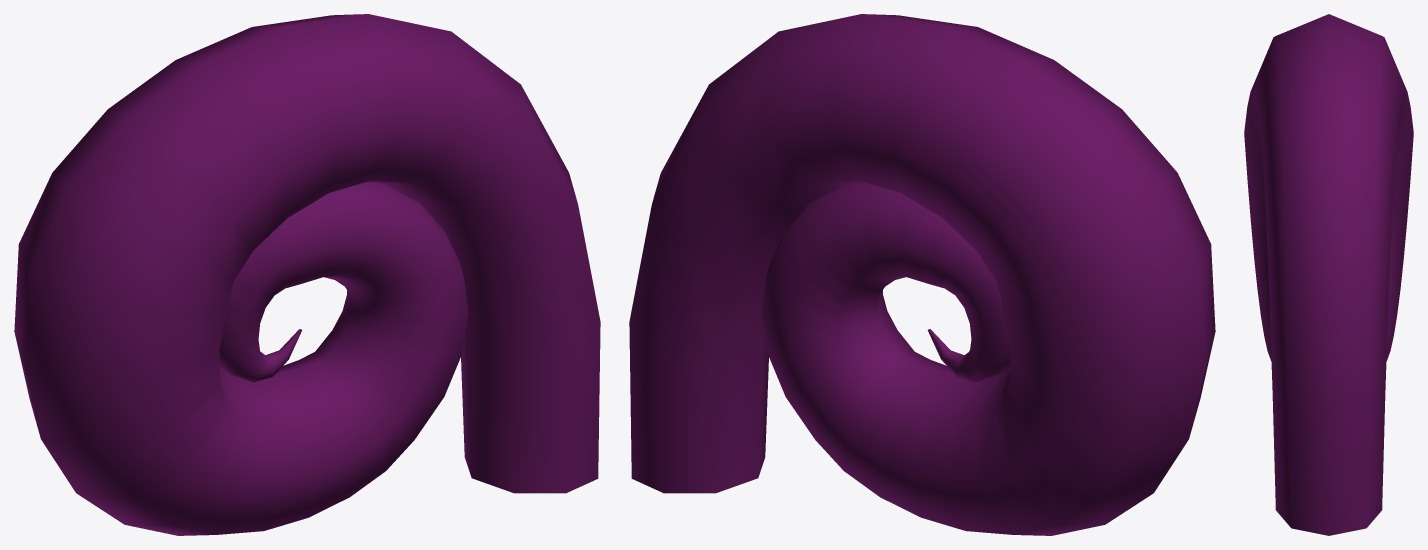
The model's file is Bush 3.glb.
3 views of the same model, side by side, from view 1: azimuth 30°, elevation 25°; view 2: azimuth 150°, elevation 25°; view 3: azimuth 270°, elevation 25° (orthographic). The views are drawn at different scales.
Parts seen in each view (by area): view 1: Bush_3; view 2: Bush_3; view 3: Bush_3.
Boxes of the visible parts, x1,y1,x2,y2 form: Bush_3: [14, 14, 600, 535]; Bush_3: [629, 14, 1215, 535]; Bush_3: [1244, 14, 1413, 535].
Size of the model in its own units: 1.86 by 1.58 by 0.6274.
Materials: 1 (1 with a texture image).
